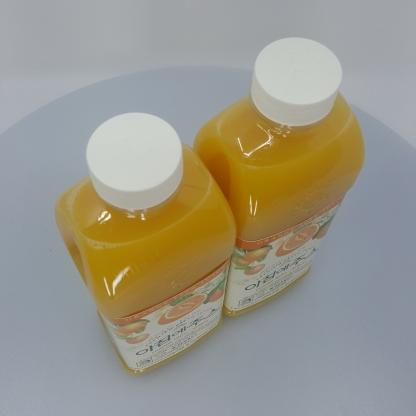----------950ML: (192, 37, 365, 317), (55, 112, 238, 375)
